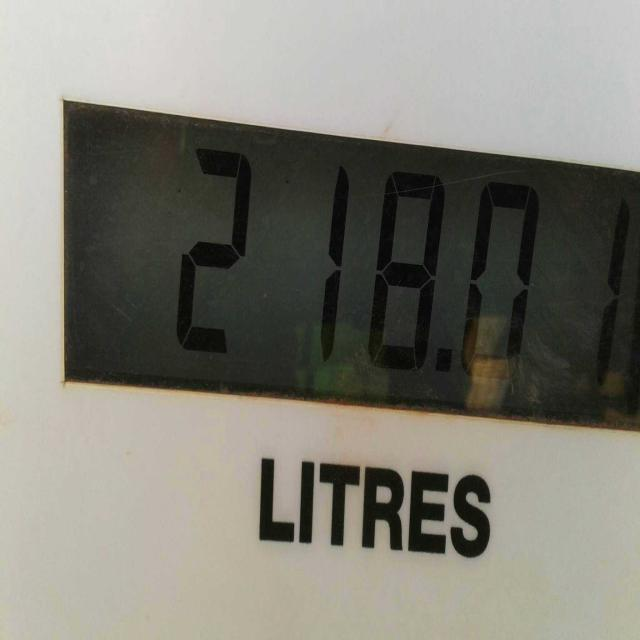.: (429, 336, 458, 399)
0: (462, 170, 540, 430)
1: (308, 159, 359, 372), (599, 162, 627, 398)
2: (173, 139, 259, 358)
8: (372, 164, 438, 388)
